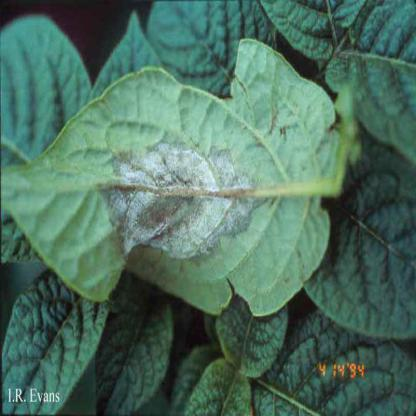potato leaf late blight: (4, 34, 347, 316)
